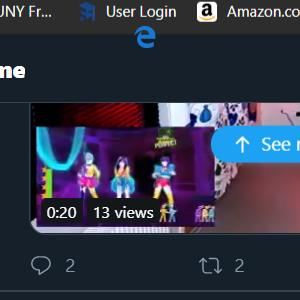edge: (134, 24, 155, 49)
